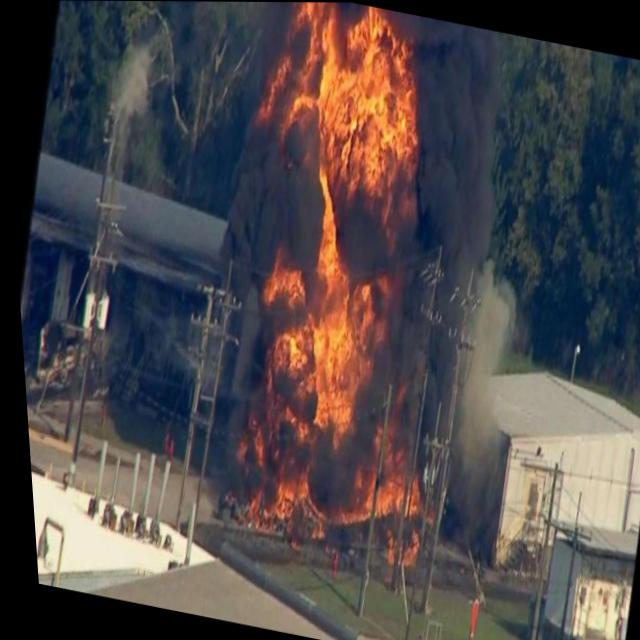fire: (163, 1, 528, 580)
